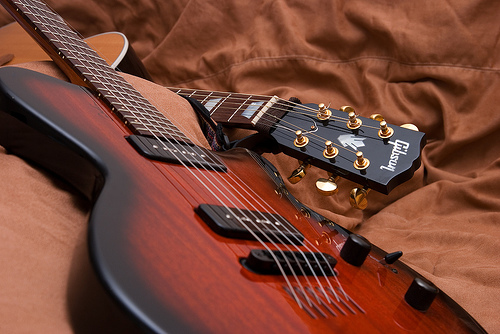guitar: (2, 1, 486, 334), (4, 17, 427, 195)
